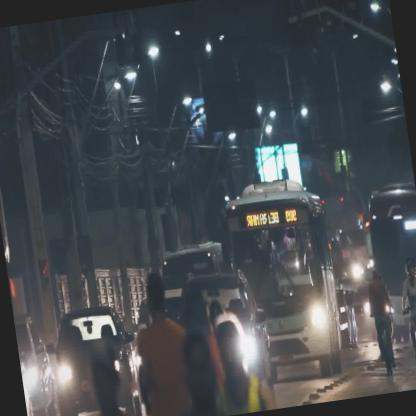bus: (220, 173, 347, 387)
car: (46, 301, 145, 415)
motorcycle: (364, 266, 398, 378), (397, 256, 415, 389)
